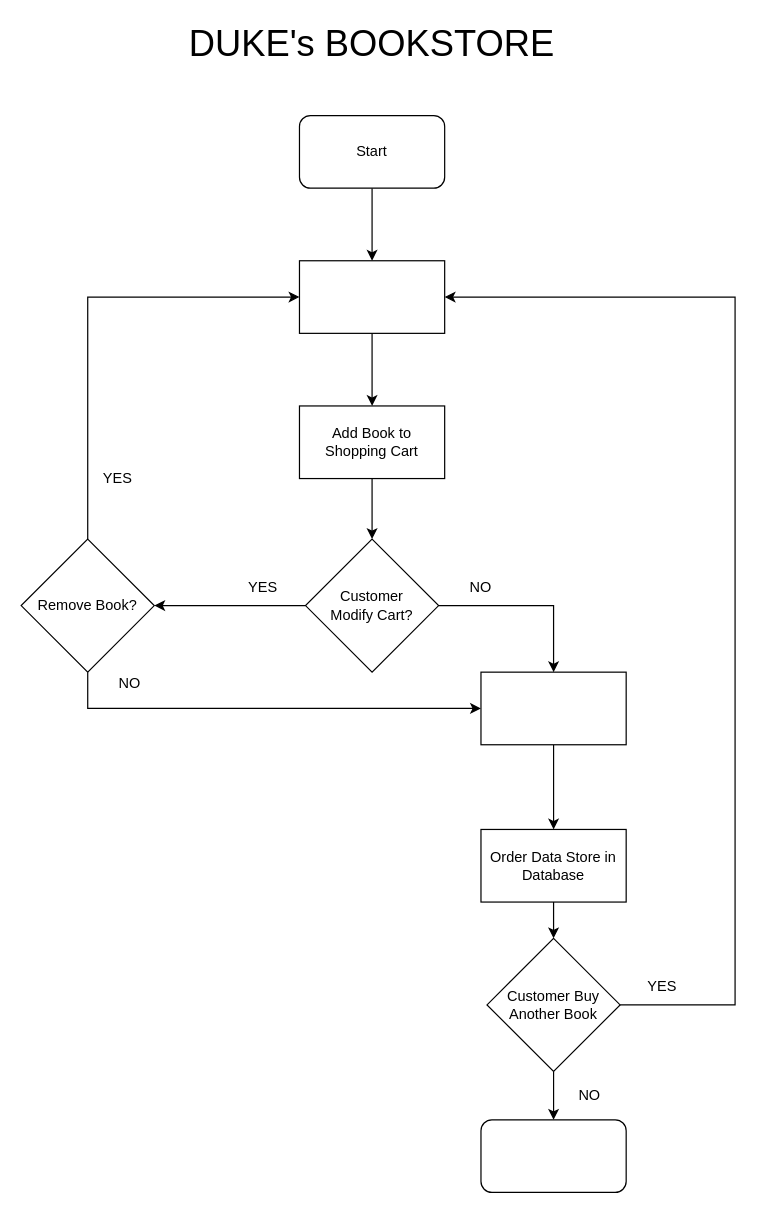
Image size: 766x1214. Some labels were removed from this diagram. Here are the shapes that lost their labels. From the top down, the centre of each, then its label:
point 371,296: Select Book
point 553,708: System Make Order
point 553,1155: End
